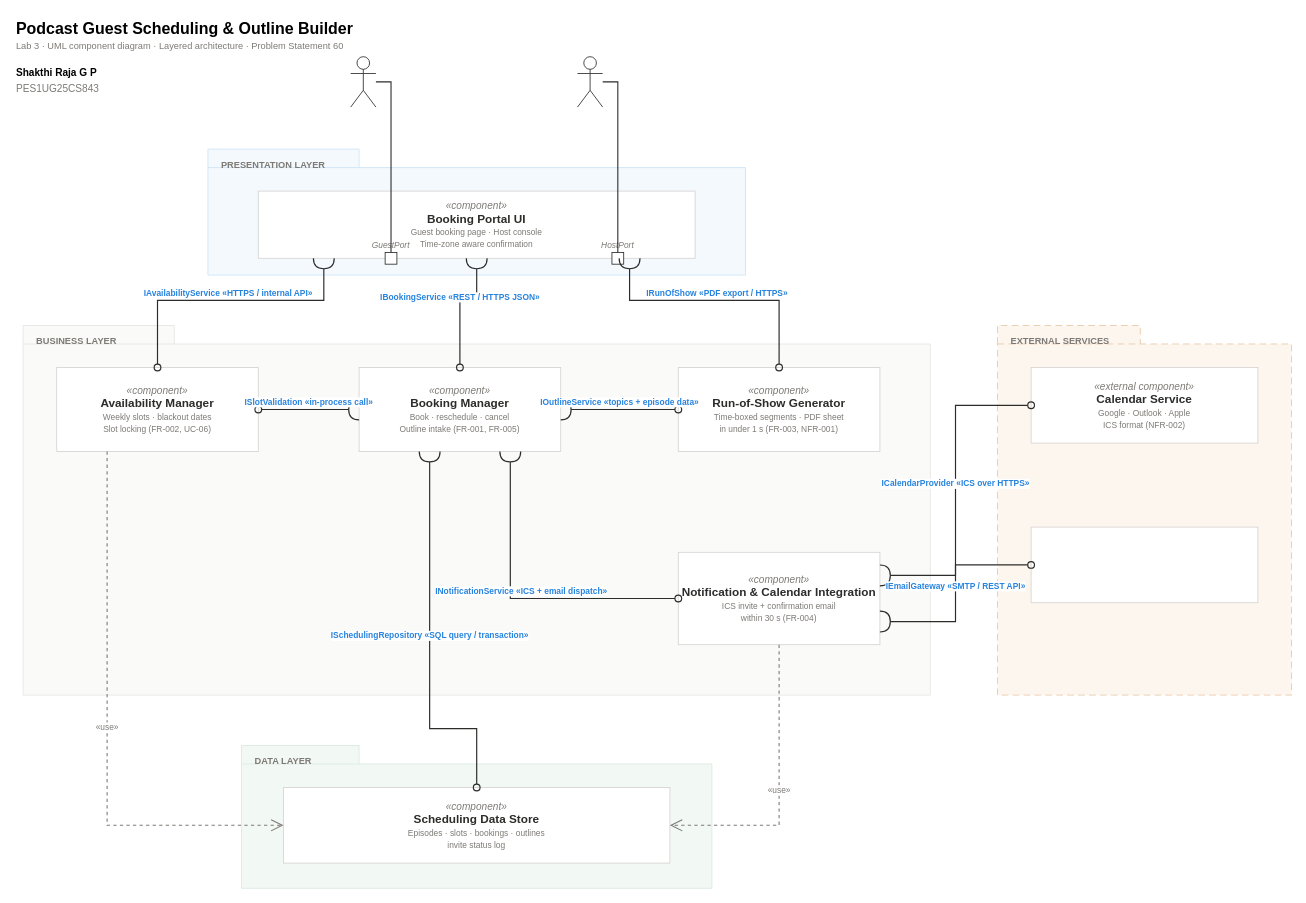
This 1306x903 diagram has some shape labels left out. Each missing label, with the centre of its shape:
Podcast Guest: the point at 363,81
Show Host: the point at 590,81
«external component» Email Provider Confirmation & reminder delivery: the point at 1144,564
